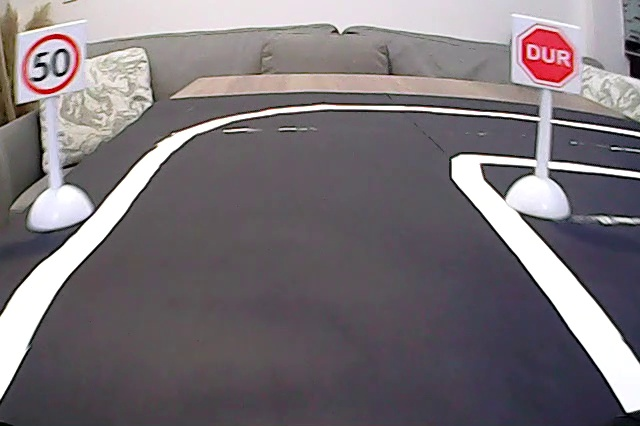speed limit 50: (16, 31, 83, 98)
stop sign: (515, 16, 580, 93)
